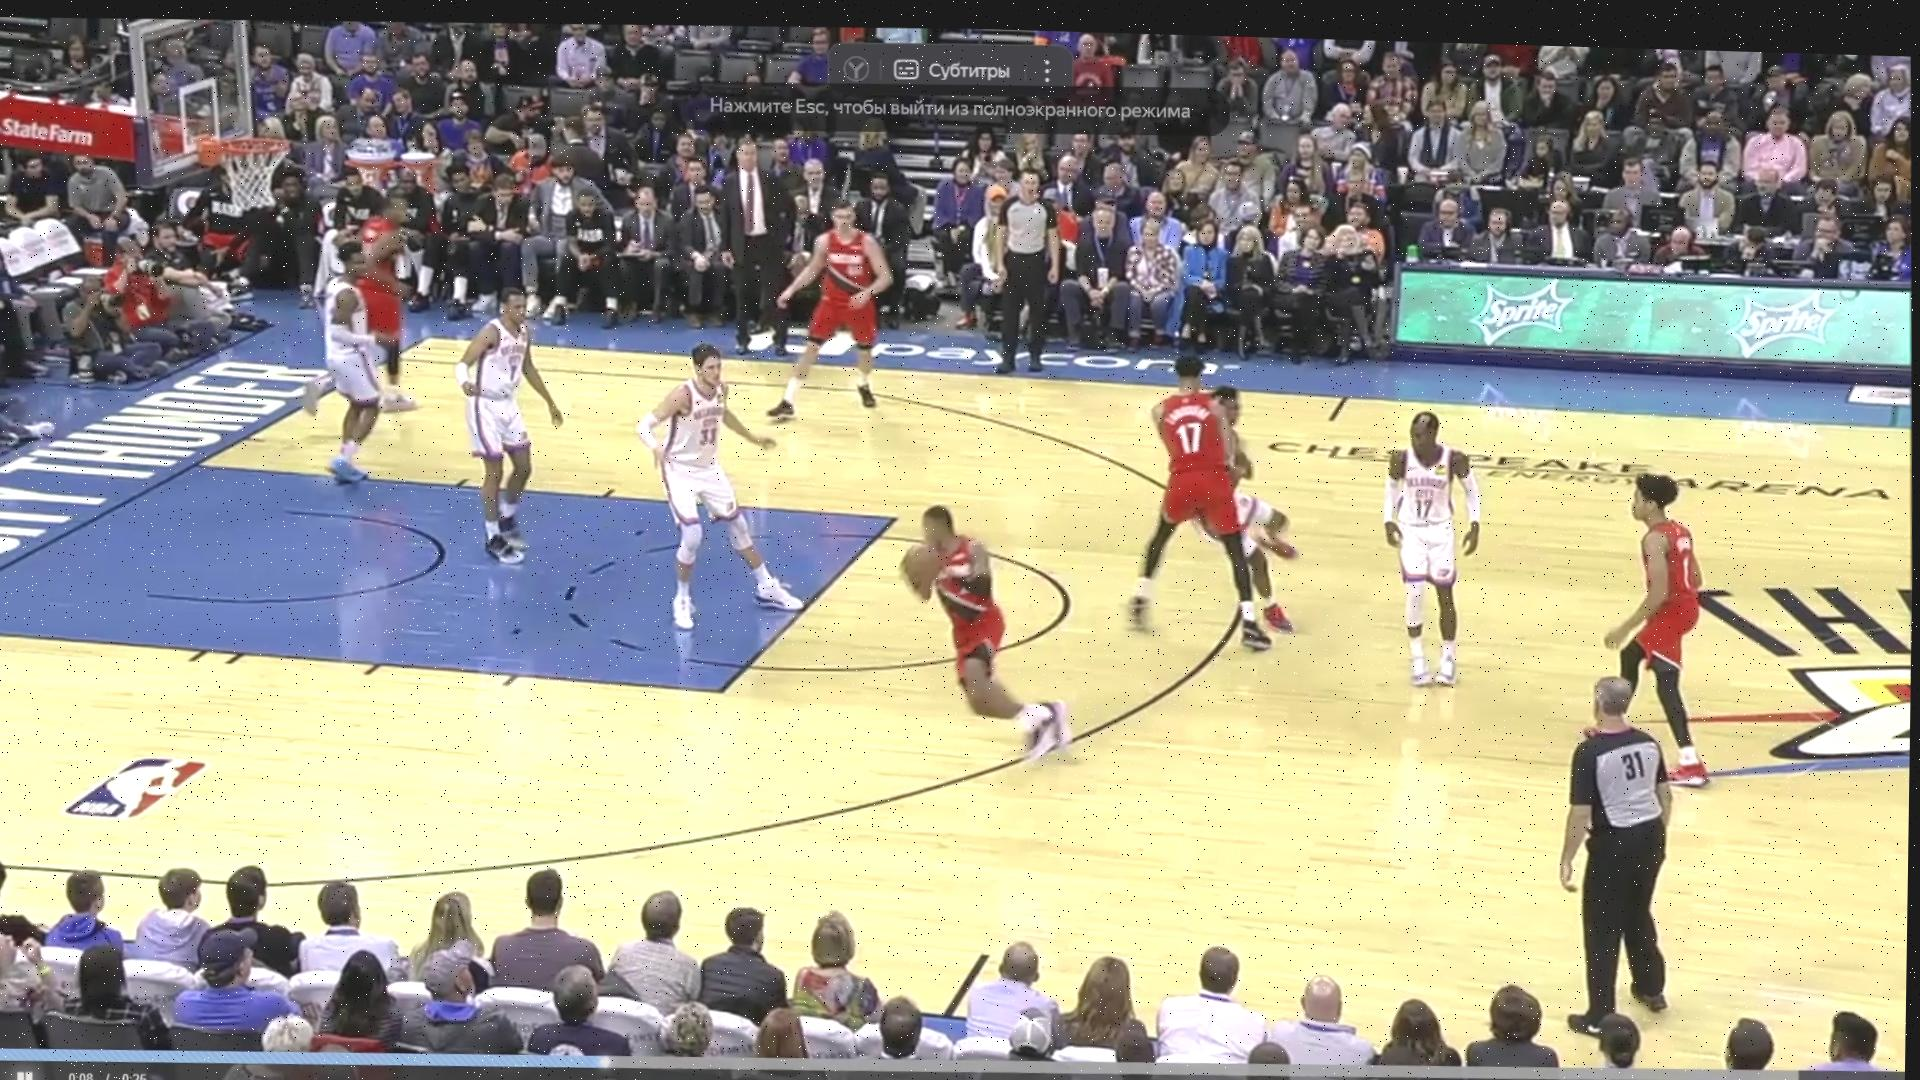foul: (1125, 348, 1328, 662)
